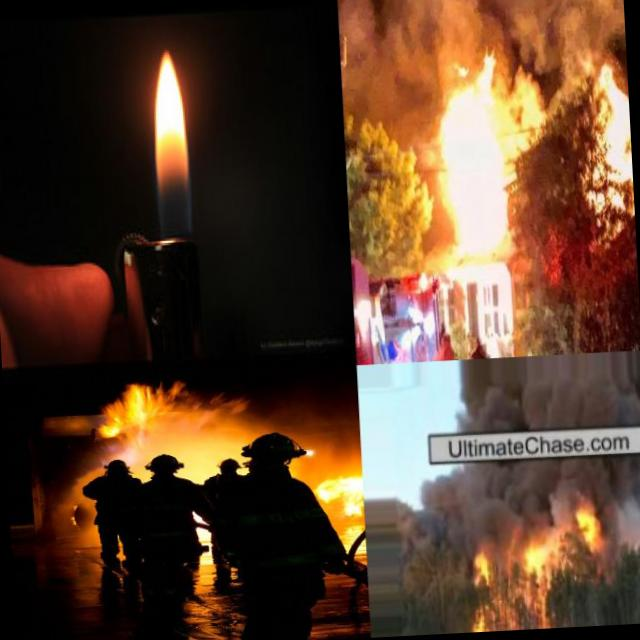fire: (432, 56, 513, 266), (132, 45, 206, 238), (82, 374, 242, 442), (462, 530, 562, 632), (586, 0, 634, 144), (310, 469, 364, 517), (574, 487, 606, 552)
smoke: (337, 0, 626, 63), (421, 461, 576, 538), (340, 58, 434, 144), (505, 51, 590, 144), (599, 464, 640, 556)
